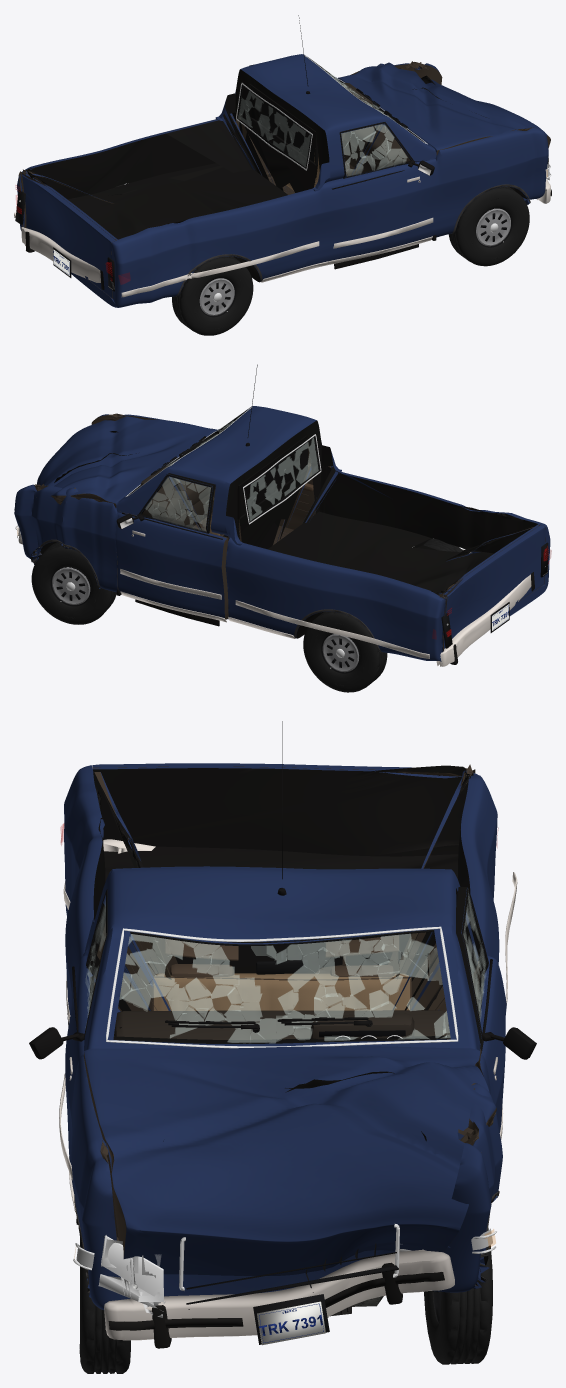
The model's file is pickup87_front_corner_d1_lod1.glb.
3 renders of one model, top to bottom at view 1: azimuth 30°, elevation 25°; view 2: azimuth 150°, elevation 25°; view 3: azimuth 270°, elevation 25°, orthographic. The views are drawn at different scales.
Parts seen in each view (by area): view 1: Body, Hood, Wheel_FR_mesh, Wheel_RR_mesh, Tailgate, Door_FR, Glass, Interior, Trim, Trim_FR, Glass_FR, Bumper_R (+1 smaller); view 2: Body, Hood, Door_FL, Tailgate, Wheel_RL_mesh, Wheel_FL_mesh, Glass, Interior, Trim, Trim_FL, Glass_FL, Bumper_R (+2 smaller); view 3: Body, Hood, Interior, Glass, Bumper_F, Ends, Wheel_FL_mesh, Door_FL, Wheel_FR_mesh, Trim, Trim_FR, Trim_FL (+3 smaller).
Boxes of the visible parts, left/top/right/bottom form: Body: left=17, top=54, right=548, bottom=307; Hood: left=338, top=62, right=550, bottom=155; Wheel_FR_mesh: left=448, top=186, right=529, bottom=266; Wheel_RR_mesh: left=172, top=256, right=253, bottom=335; Tailgate: left=20, top=172, right=115, bottom=298; Door_FR: left=325, top=125, right=435, bottom=260; Glass: left=236, top=55, right=427, bottom=170; Interior: left=286, top=83, right=408, bottom=190; Trim: left=14, top=15, right=530, bottom=297; Trim_FR: left=326, top=122, right=434, bottom=269; Glass_FR: left=341, top=124, right=411, bottom=178; Bumper_R: left=21, top=227, right=104, bottom=289; Body: left=14, top=406, right=550, bottom=661; Hood: left=36, top=416, right=216, bottom=507; Door_FL: left=115, top=473, right=228, bottom=619; Tailgate: left=443, top=525, right=545, bottom=651; Wheel_RL_mesh: left=303, top=611, right=387, bottom=692; Wheel_FL_mesh: left=31, top=542, right=116, bottom=624; Glass: left=125, top=407, right=321, bottom=524; Interior: left=140, top=465, right=220, bottom=535; Trim: left=32, top=364, right=472, bottom=658; Trim_FL: left=116, top=474, right=226, bottom=626; Glass_FL: left=141, top=474, right=213, bottom=533; Bumper_R: left=436, top=572, right=534, bottom=666; Body: left=64, top=764, right=502, bottom=1309; Hood: left=84, top=1046, right=496, bottom=1275; Interior: left=114, top=935, right=449, bottom=1039; Glass: left=106, top=926, right=458, bottom=1048; Bumper_F: left=104, top=1249, right=454, bottom=1348; Ends: left=73, top=1224, right=496, bottom=1345; Wheel_FL_mesh: left=424, top=1228, right=492, bottom=1364; Door_FL: left=456, top=887, right=506, bottom=1132; Wheel_FR_mesh: left=79, top=1232, right=130, bottom=1373; Trim: left=63, top=721, right=517, bottom=1298; Trim_FR: left=29, top=889, right=107, bottom=1212; Trim_FL: left=462, top=888, right=536, bottom=1204.
Bounding box in the file's own units: 4.97 × 2.56 × 2.34.
34 materials, 5 textured.
